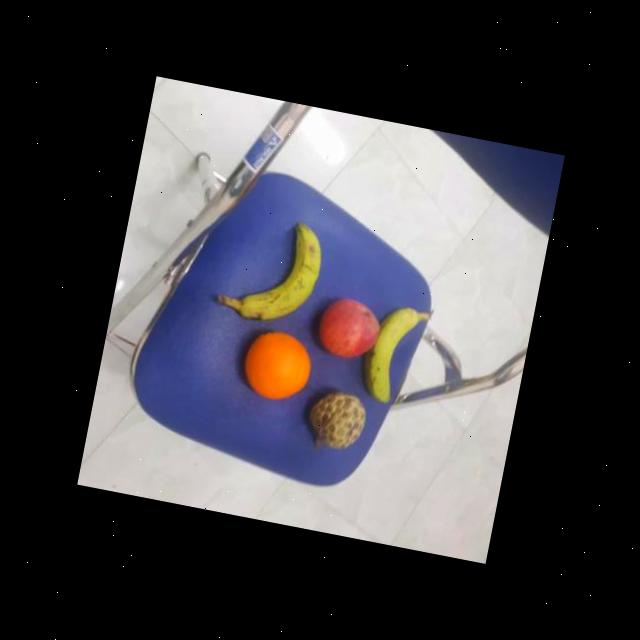Sakya fruit: (302, 386, 372, 458)
apple: (310, 289, 386, 365)
banana: (238, 214, 329, 333), (358, 298, 429, 408)
orange: (235, 323, 316, 408)
